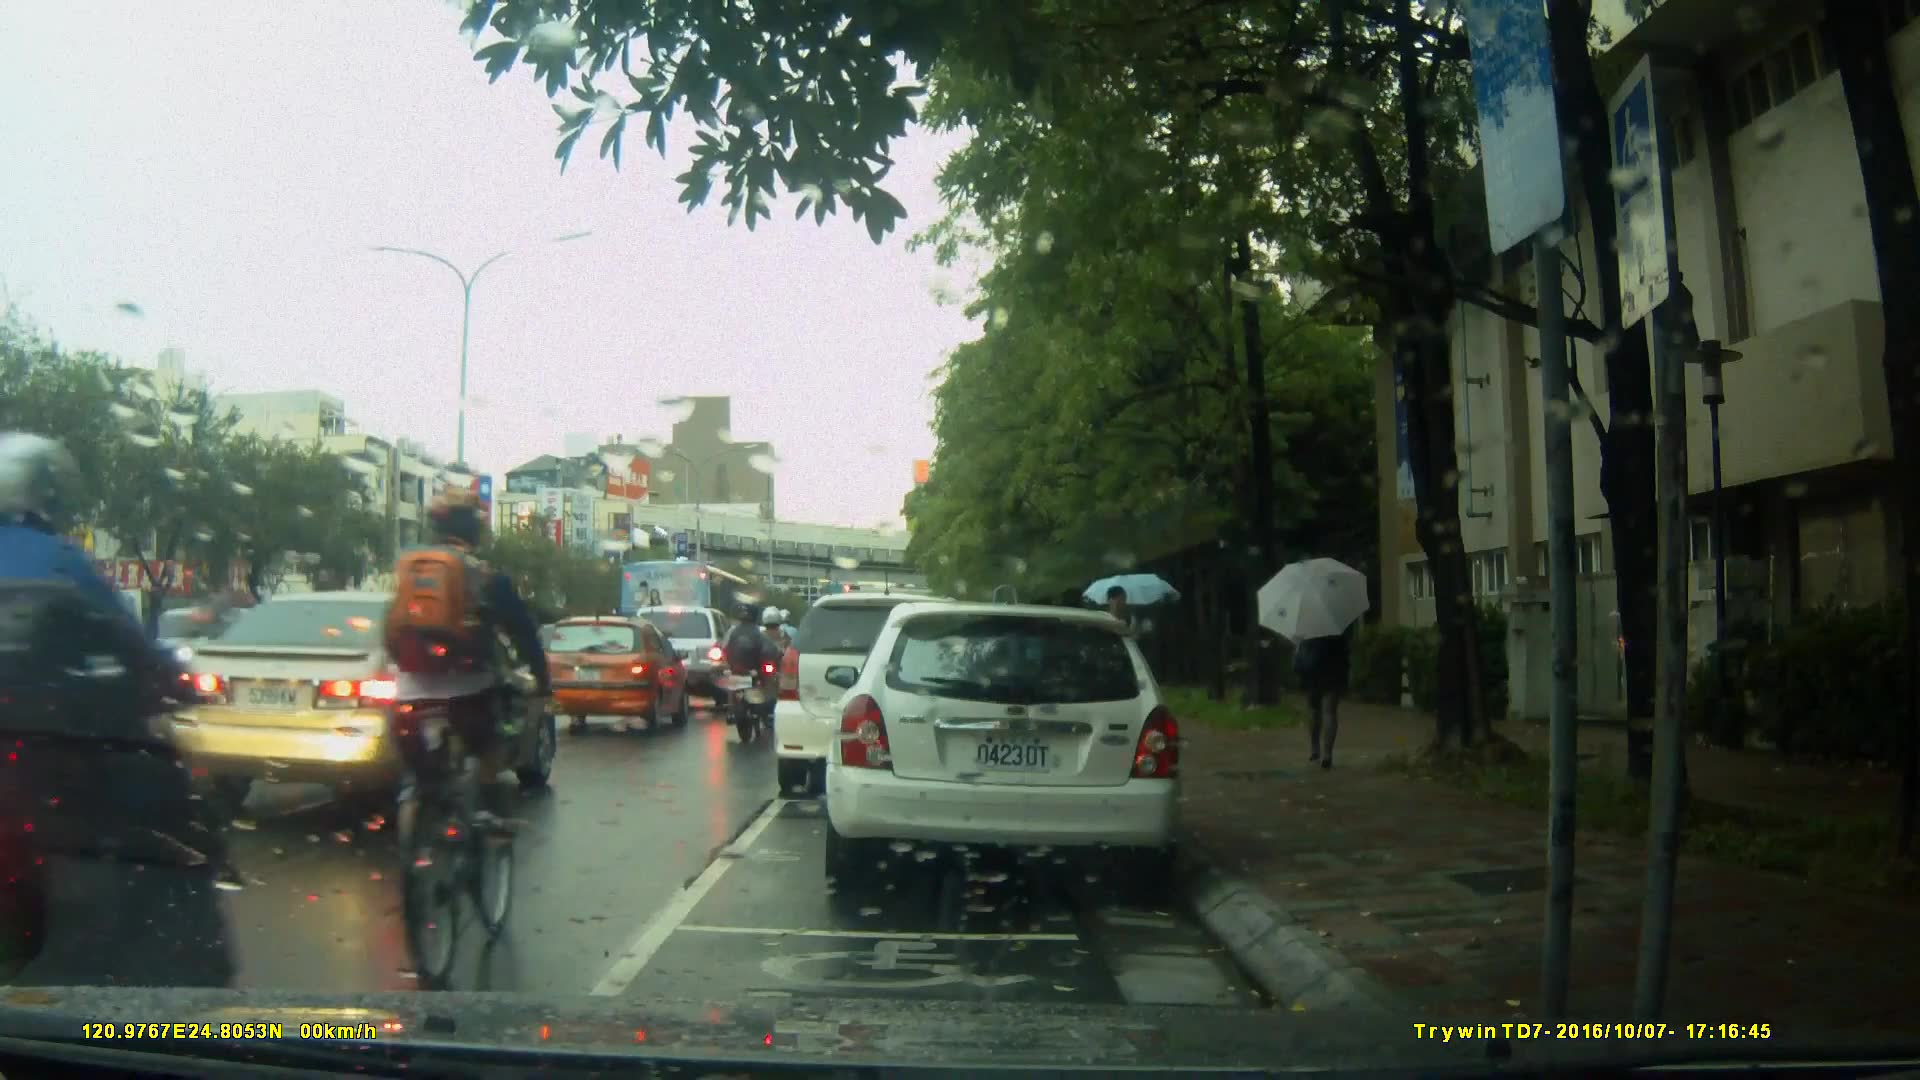pedestrian: (1283, 570, 1365, 771), (1104, 575, 1150, 769)
rider: (1, 433, 229, 1079), (377, 492, 557, 974), (718, 607, 772, 742), (754, 605, 795, 722)
vehicle: (835, 594, 1194, 898), (162, 587, 563, 826), (776, 590, 1026, 784), (530, 616, 695, 730), (618, 558, 761, 673)
